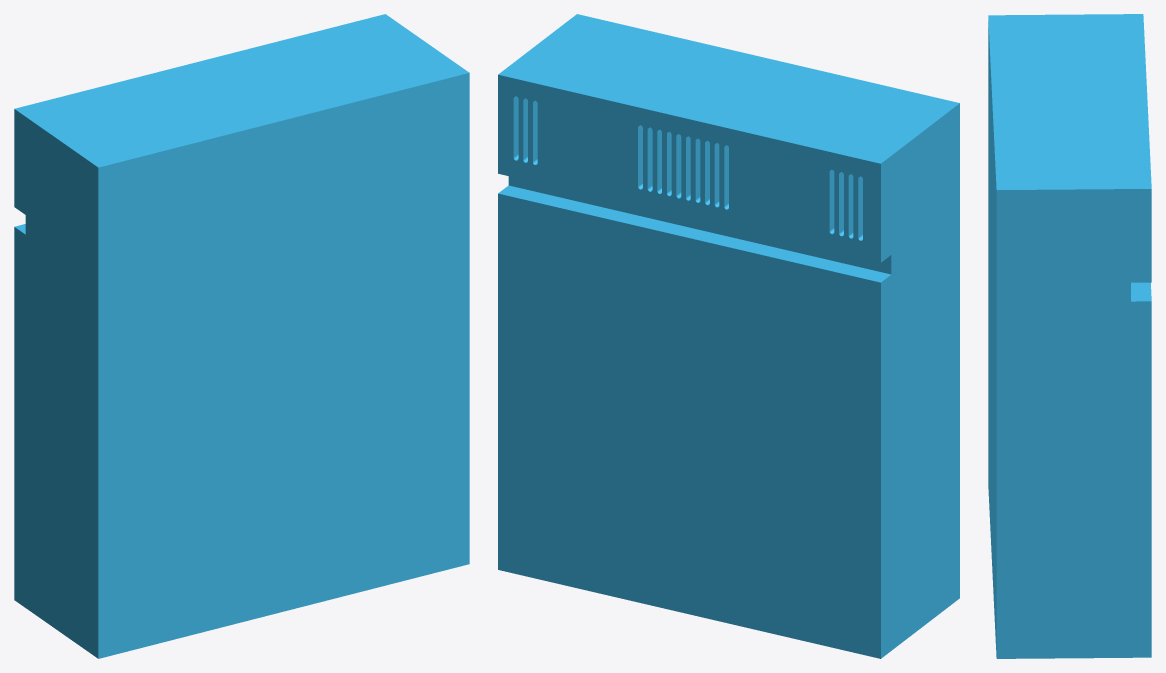
3 renders of one model, left to right at view 1: azimuth 30°, elevation 25°; view 2: azimuth 150°, elevation 25°; view 3: azimuth 270°, elevation 25°, orthographic. The views are drawn at different scales.
Bounding box in the file's own units: 443 × 550 × 174.
